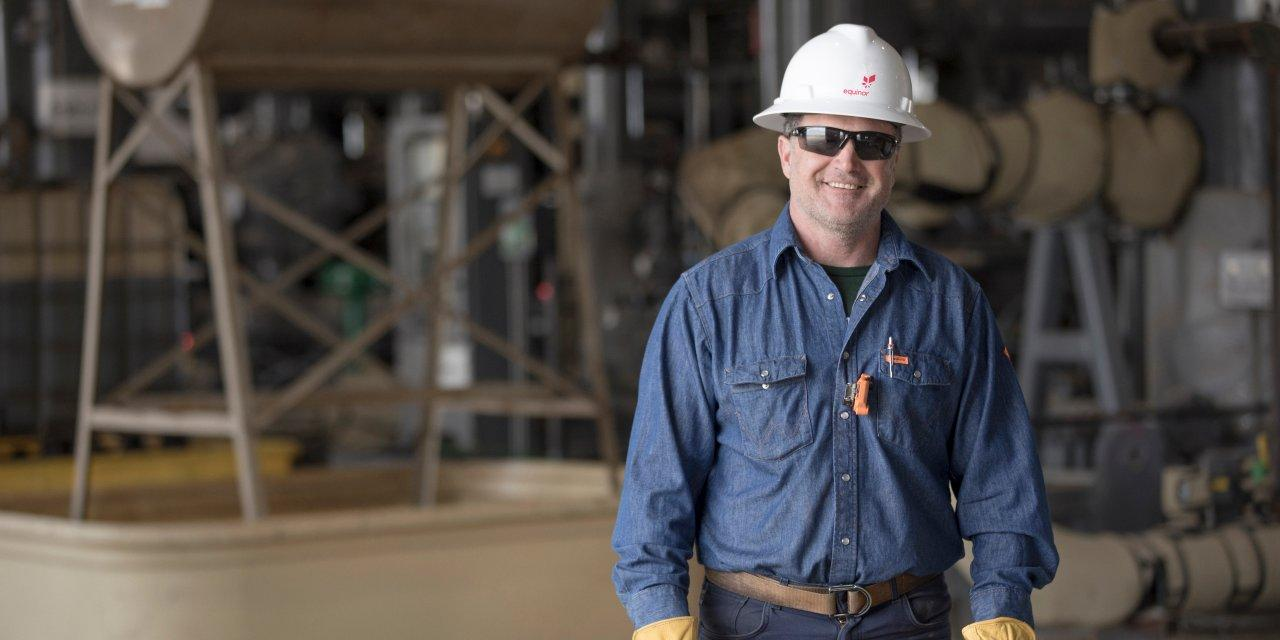helmet: (751, 24, 937, 137)
